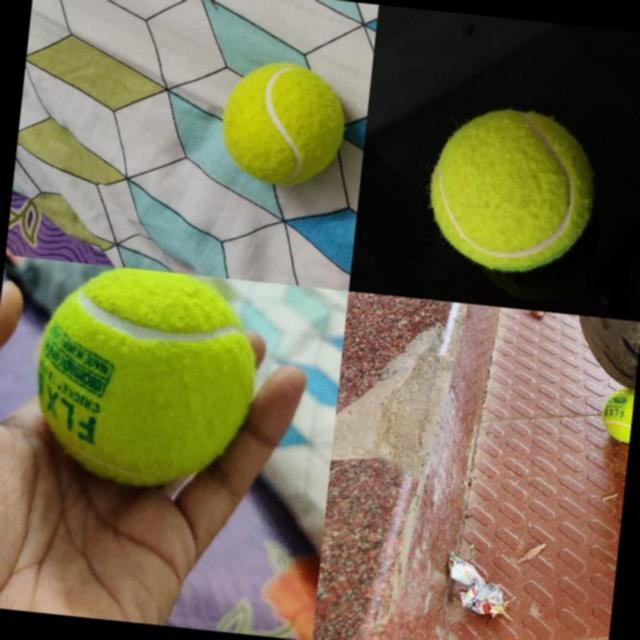Tennis Ball: (24, 259, 266, 498), (422, 102, 600, 280), (217, 56, 351, 192), (598, 391, 633, 443)
